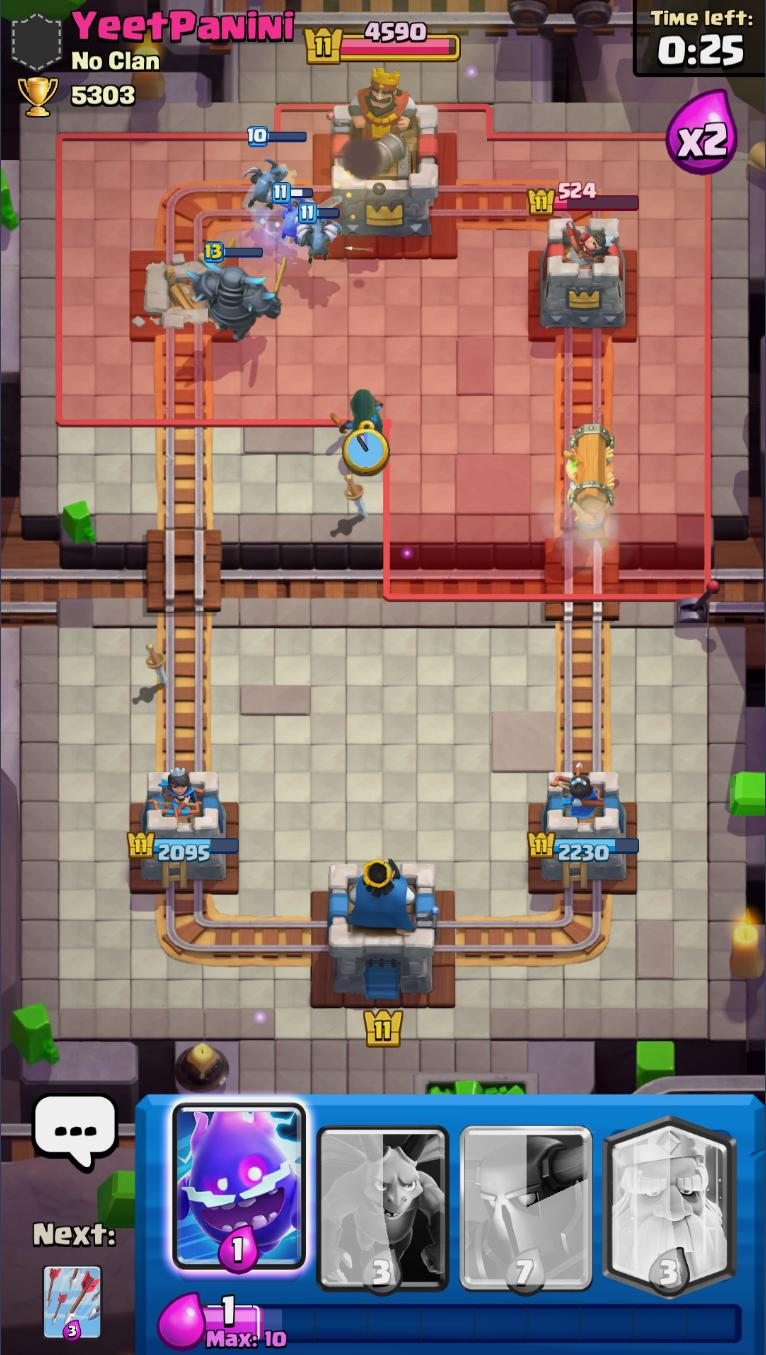ArrowNext: (41, 1264, 103, 1343)
ElectroSpiritDeck: (167, 1095, 310, 1296)
Elixir: (203, 1295, 744, 1350)
EnemyTower: (533, 214, 631, 331)
EnemyTowerBrocken: (125, 252, 236, 350)
KingTower: (326, 80, 443, 243)
KingTowerHP: (304, 20, 461, 65)
MinionsDeck: (311, 1095, 455, 1296)
MyBandit: (331, 389, 385, 437)
MyBattleRam: (562, 424, 617, 545)
MyKingTower: (326, 858, 440, 1000)
MyMinion: (296, 203, 344, 261), (271, 182, 317, 241), (243, 159, 287, 209)
MyPekka: (188, 242, 286, 339)
MyPrincessTower: (126, 768, 240, 886), (528, 770, 640, 886)
MyPrincessTowerHP: (126, 830, 239, 862), (527, 832, 640, 862)
MyRoyaleGhost: (246, 127, 309, 236)
PekkaDeck: (456, 1094, 598, 1295)
PrincessTower: (564, 214, 619, 268)
RoyaleGhostDeck: (598, 1094, 742, 1296)
TowerPrincessHP: (527, 182, 640, 216)
